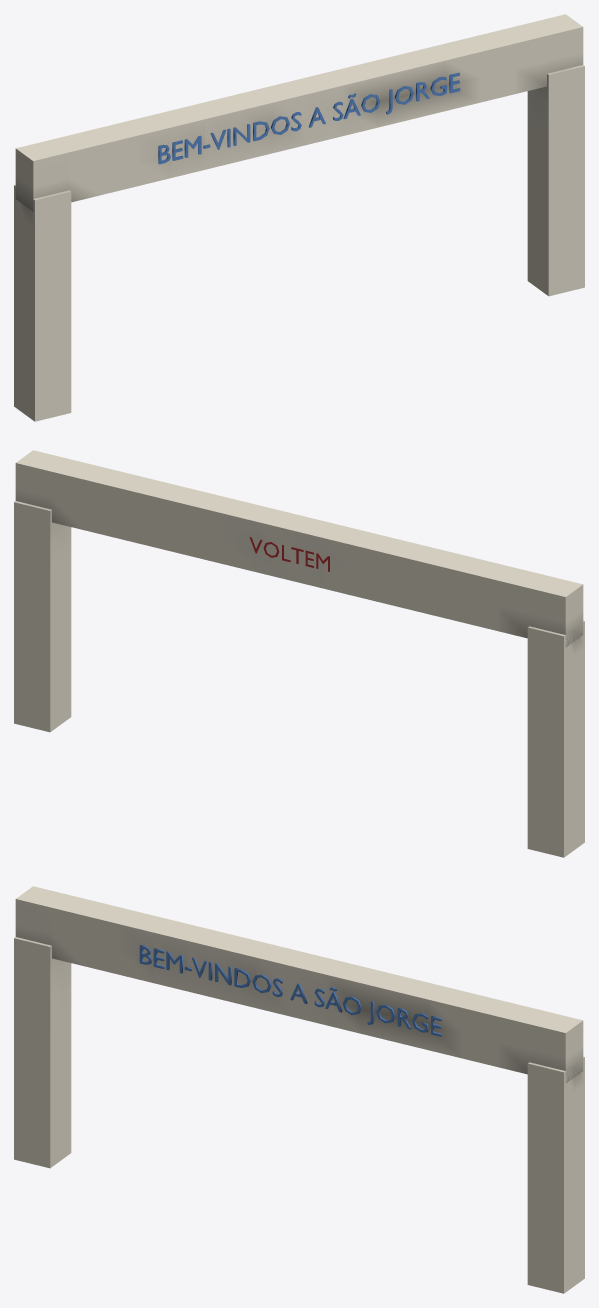
Rendered from portico.glb.
3 views of the same model, one above another, from view 1: azimuth 30°, elevation 25°; view 2: azimuth 150°, elevation 25°; view 3: azimuth 330°, elevation 25° (orthographic).
Visible parts, largest first — view 1: viga, pilar_0, pilar_2, nome; view 2: viga, pilar_0, pilar_2, picho; view 3: viga, pilar_2, pilar_0, nome.
Part boxes in pixels (left/top/right/bottom): viga: left=15, top=14, right=583, bottom=211; pilar_0: left=14, top=184, right=71, bottom=421; pilar_2: left=527, top=65, right=584, bottom=296; nome: left=158, top=72, right=460, bottom=164; viga: left=15, top=450, right=583, bottom=647; pilar_0: left=527, top=620, right=584, bottom=857; pilar_2: left=14, top=501, right=71, bottom=732; picho: left=249, top=537, right=329, bottom=571; viga: left=15, top=886, right=583, bottom=1083; pilar_2: left=527, top=1056, right=584, bottom=1293; pilar_0: left=14, top=937, right=71, bottom=1168; nome: left=139, top=945, right=441, bottom=1036.
Size of what is drawn, in the model's own units: 18.2 by 8.2 by 1.2.
